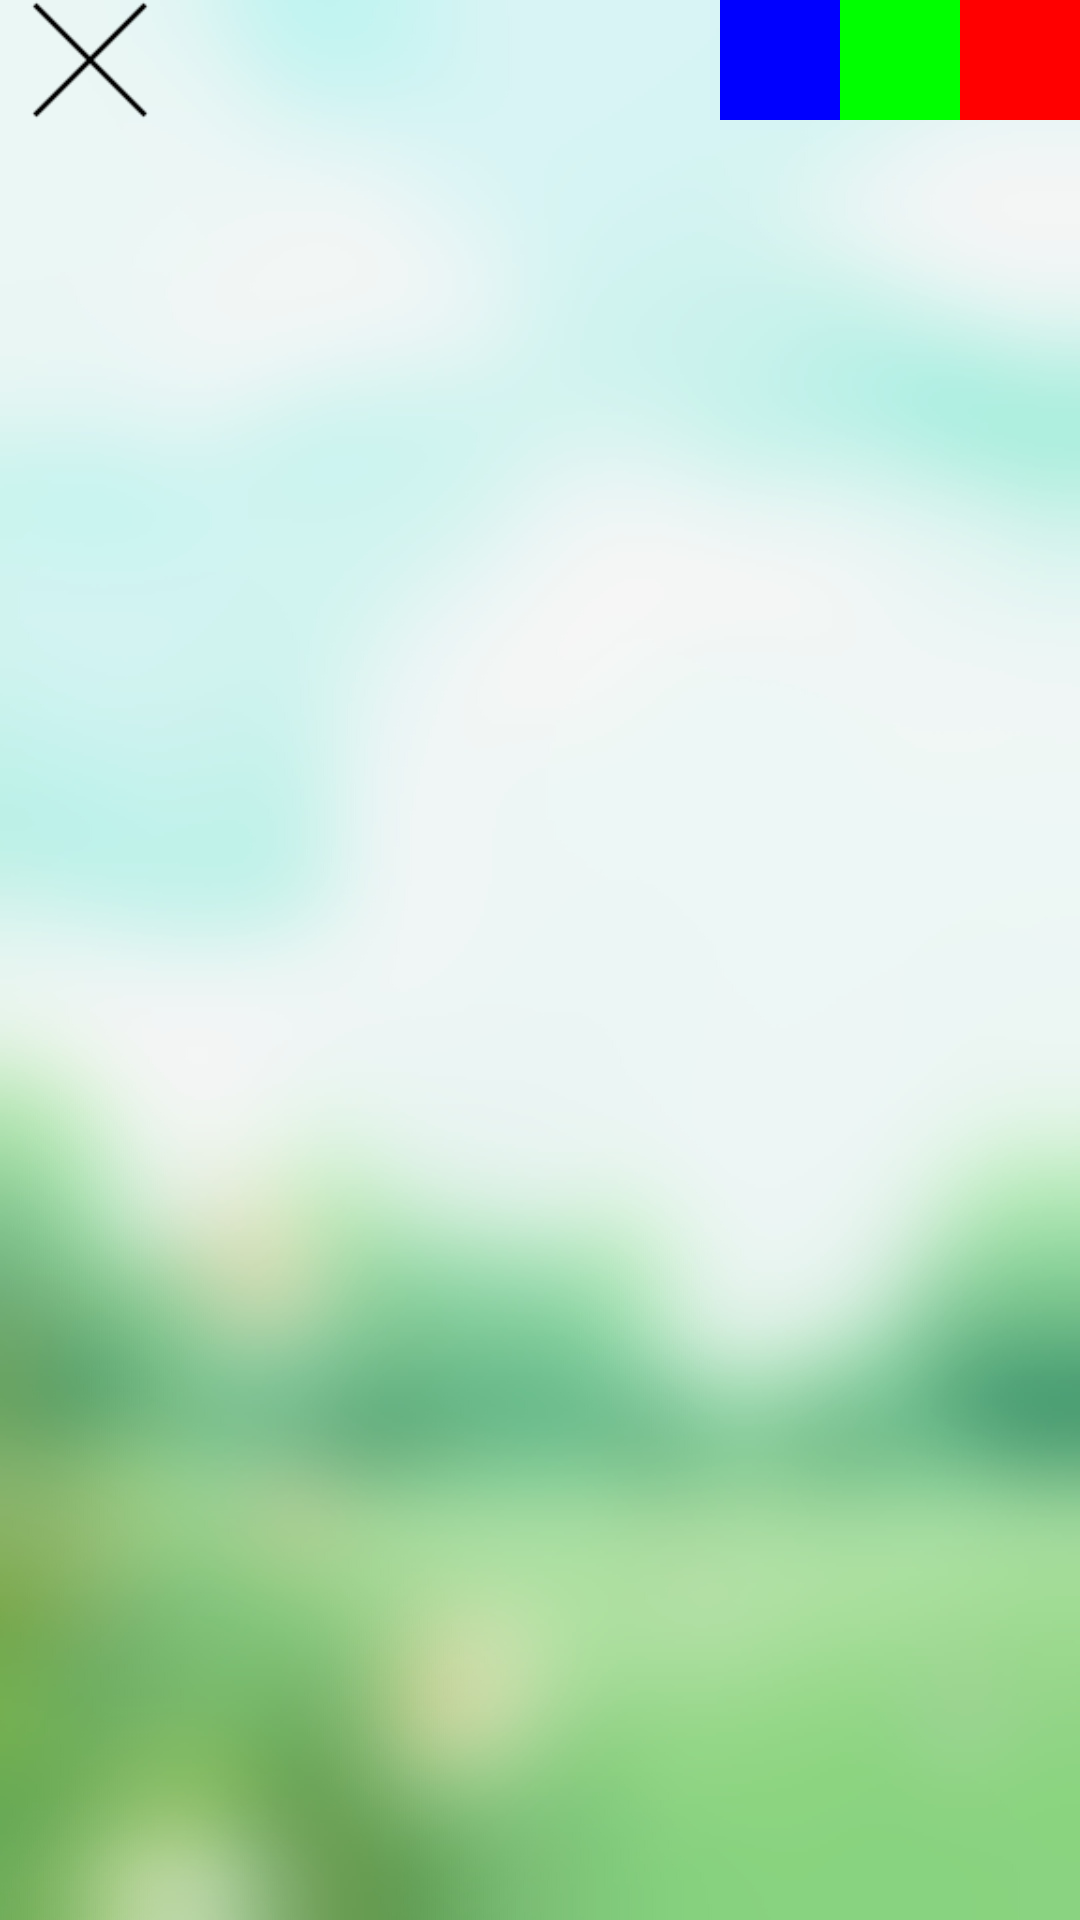

Where to tap for icons on this 1080 × 1920 app screen, as [x,y]:
exit: [90,59]
